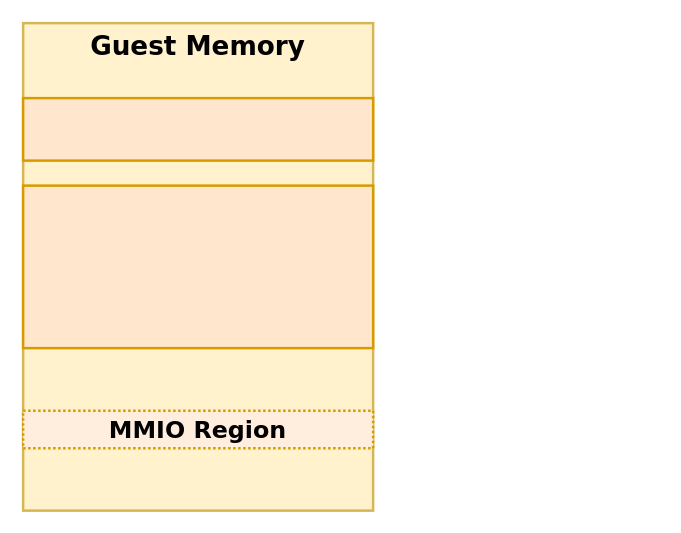
Image size: 681x533. Some labels were removed from this diagram. Each missing label, with the centre of its shape:
RAM Region #1: [197,128]
RAM Region #2: [197,266]
